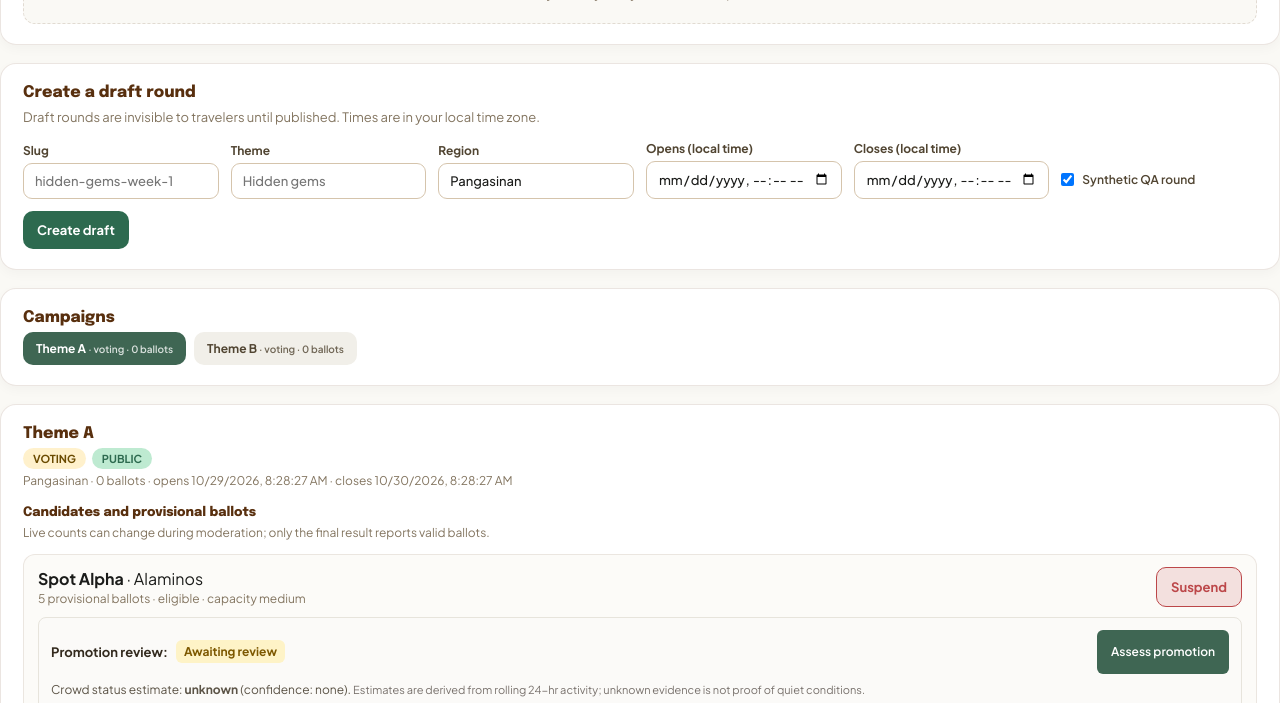
it: JuanChoiceAdmin integration and error isolation › cancels/ignores stale campaign responses when switching campaigns
(page scrolled)
expect the text "Spot Alpha" is shown: met, box [38,568,124,589]
expect the text "Awaiting review" is shown: met, box [176,640,285,663]
Note: Switch to Campaign B
Click the button "Theme B · voting · 0 ballots" at (276, 348), box [194,332,357,365]
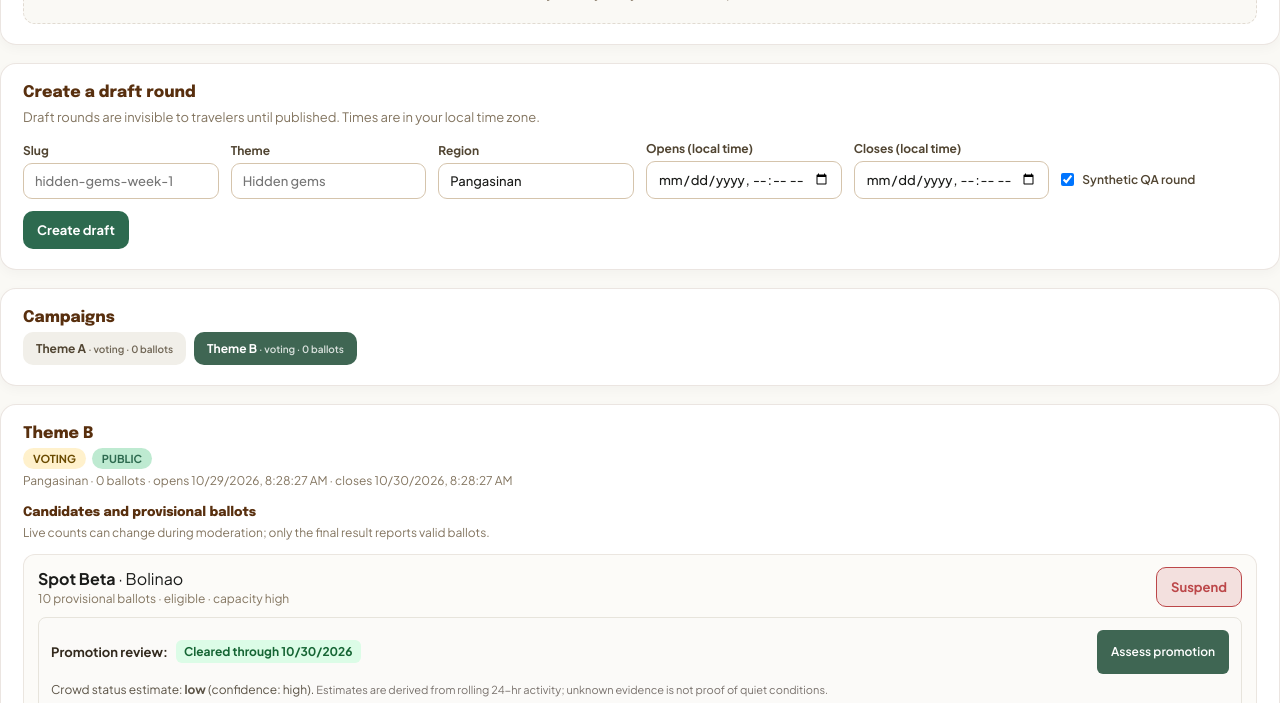
expect the text "Spot Beta" is shown: met, box [38,568,116,589]
expect the text "Spot Alpha" is gone: met
expect the text "Cleared through 10/30/2026" is shown: met, box [176,640,360,663]
